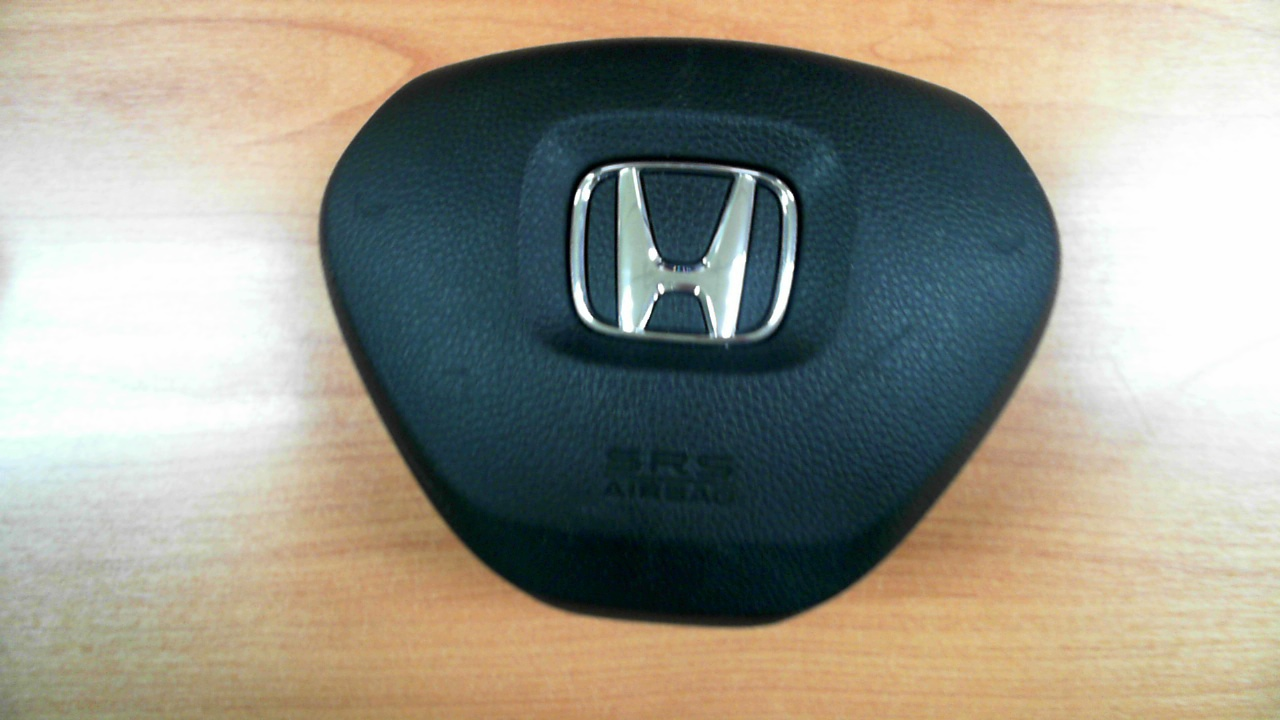Airbag: (318, 37, 1063, 629)
Honda: (564, 154, 804, 349)
